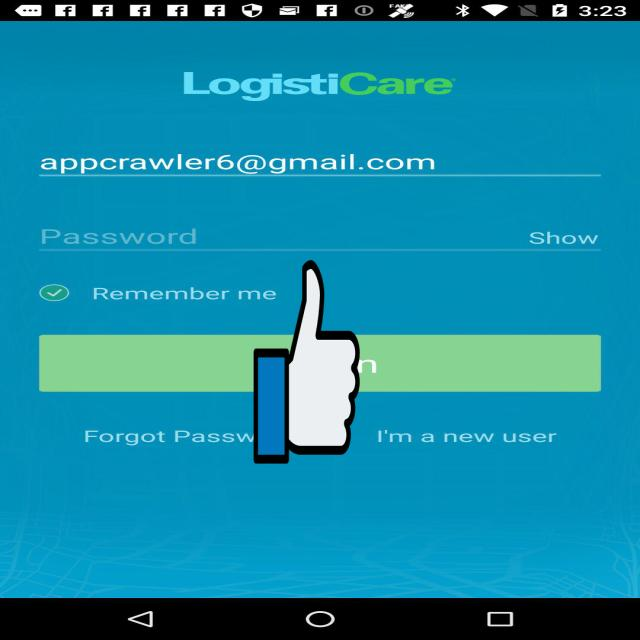privacy zuckering: (253, 256, 359, 468)
